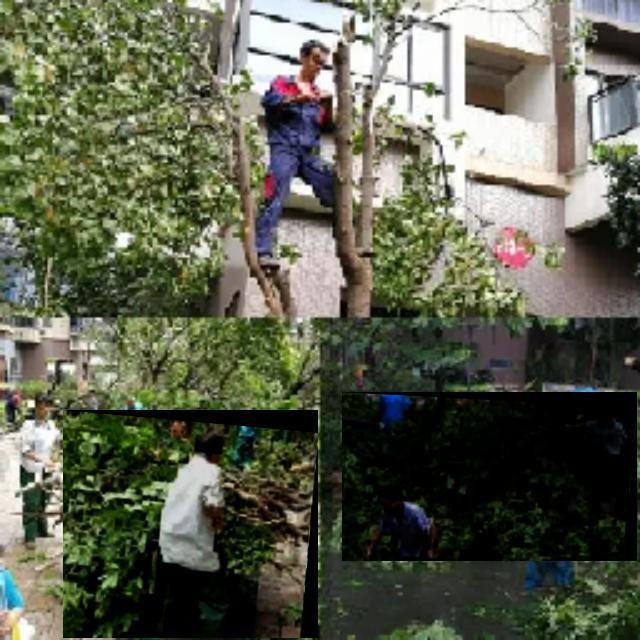fallen_tree: (63, 410, 319, 639), (342, 392, 638, 562)
